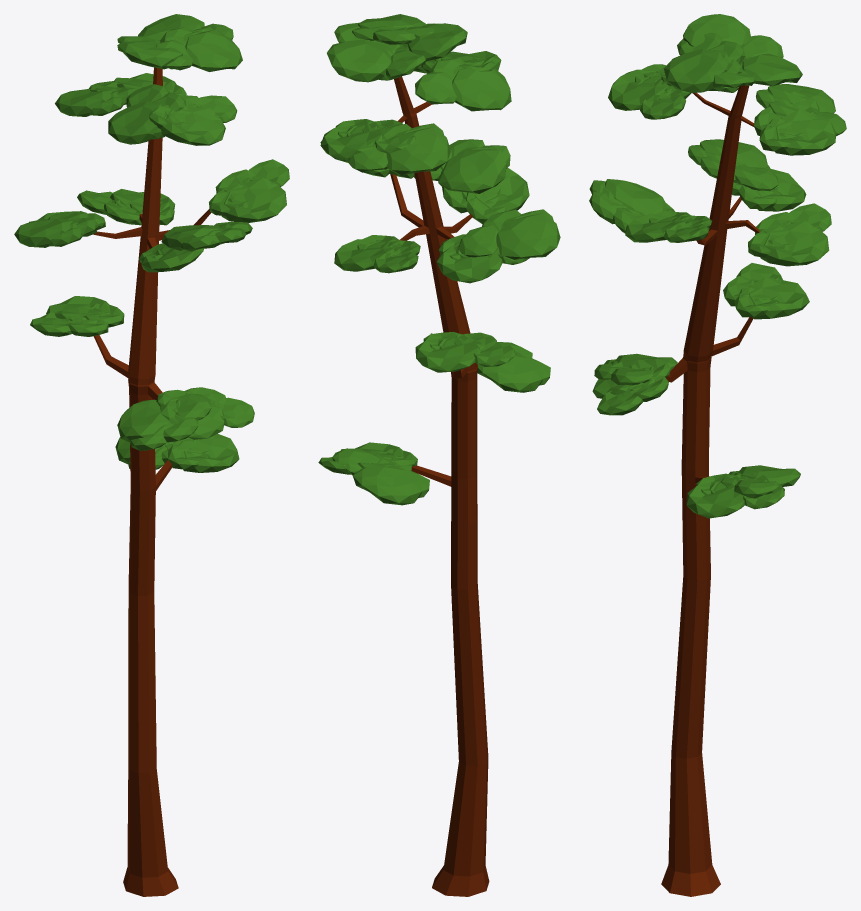
The model's file is tree_edit.fbx.
The picture shows the model from 3 angles, left to right: view 1: azimuth 30°, elevation 25°; view 2: azimuth 150°, elevation 25°; view 3: azimuth 270°, elevation 25°; orthographic projection. The views are drawn at different scales.
Visible parts, largest first — view 1: Cylinder.001; view 2: Cylinder.001; view 3: Cylinder.001.
Boxes of the visible parts, x1=… form: Cylinder.001: x1=14, y1=14, x2=289, y2=896; Cylinder.001: x1=318, y1=14, x2=560, y2=896; Cylinder.001: x1=589, y1=14, x2=846, y2=896.
Size of the model in its own units: 750 by 2418 by 653.
